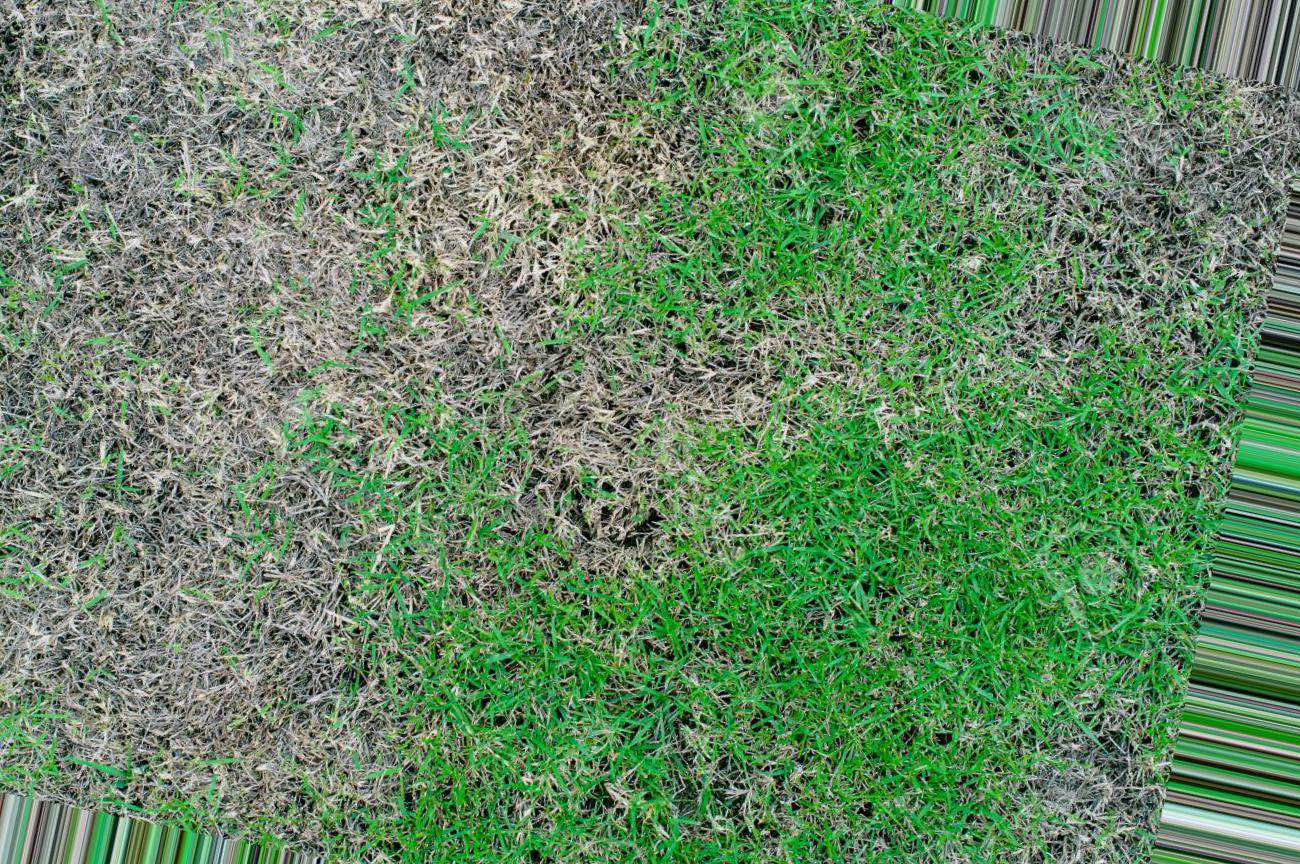patch: (47, 52, 294, 729), (346, 73, 558, 292), (505, 363, 701, 501), (1079, 110, 1246, 266)
